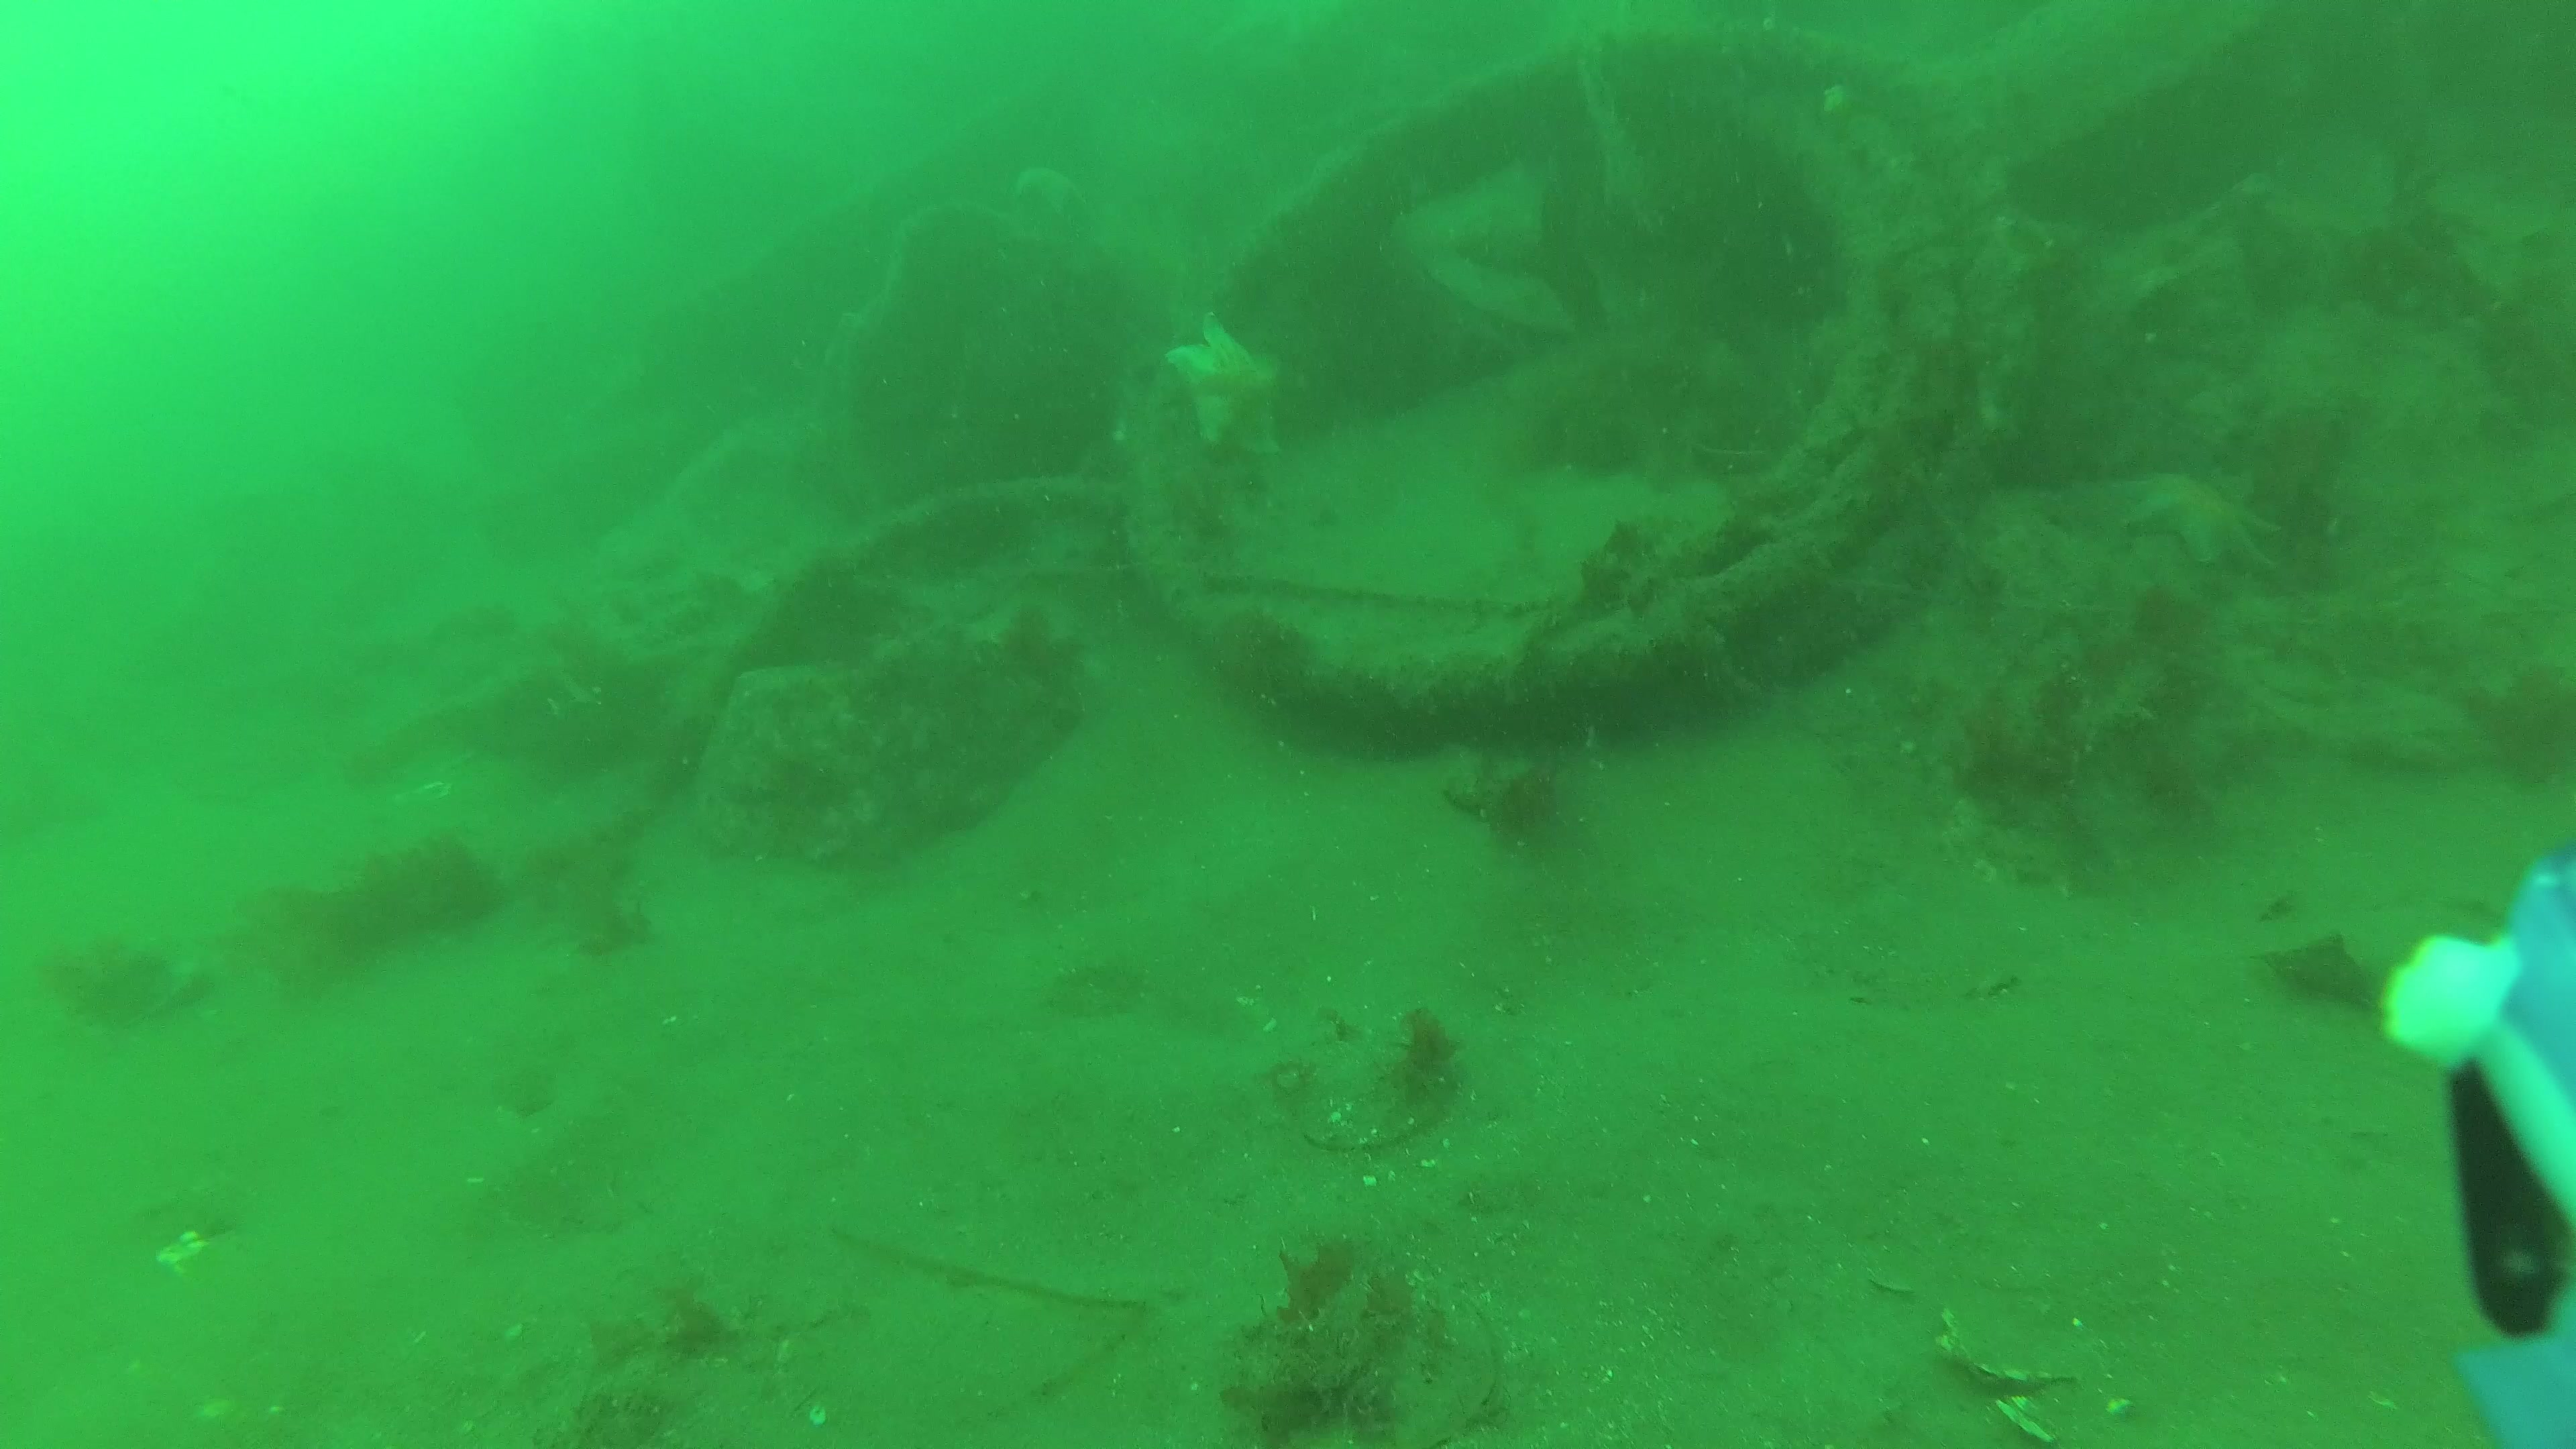starfish: (1162, 306, 1290, 462)
